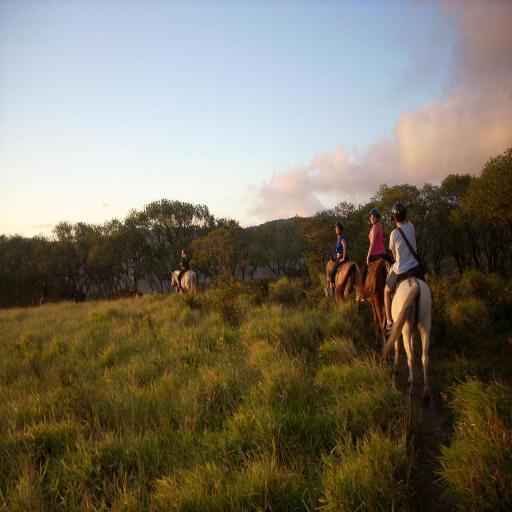horse: (380, 261, 430, 403), (358, 254, 392, 326), (330, 263, 366, 308), (170, 270, 196, 299), (132, 292, 142, 302)
